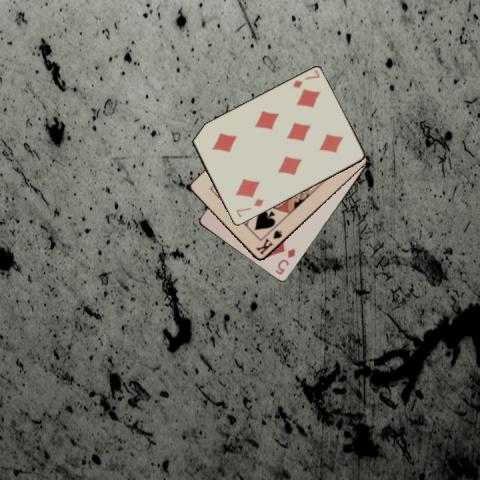5d: (272, 245, 297, 277)
7d: (234, 196, 266, 219), (290, 67, 322, 90)
Ks: (253, 227, 283, 257)
